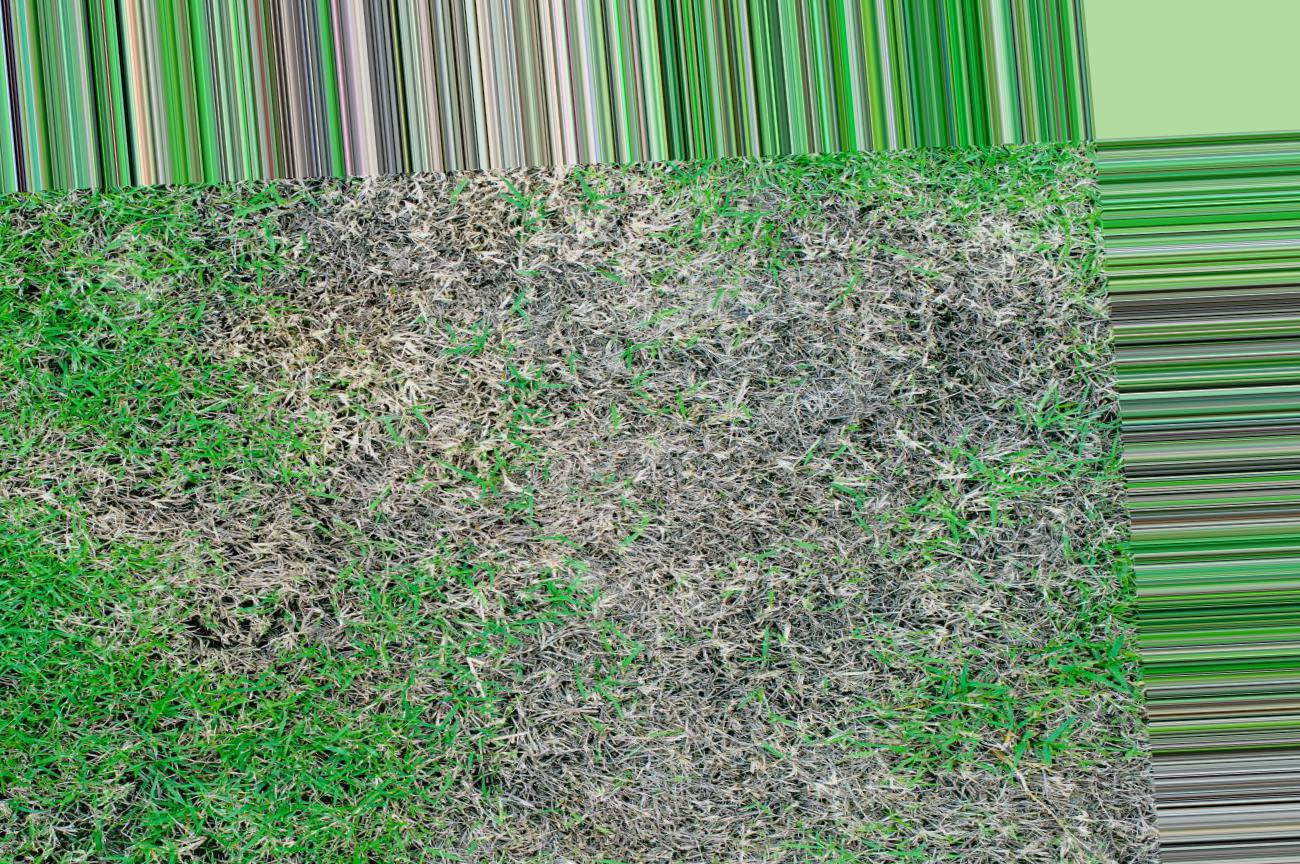patch: (652, 580, 852, 717), (471, 400, 598, 536), (608, 429, 727, 553), (559, 309, 735, 392), (452, 263, 552, 400), (788, 739, 922, 839), (625, 724, 754, 826), (322, 304, 418, 419), (732, 302, 857, 380), (803, 461, 871, 536)
